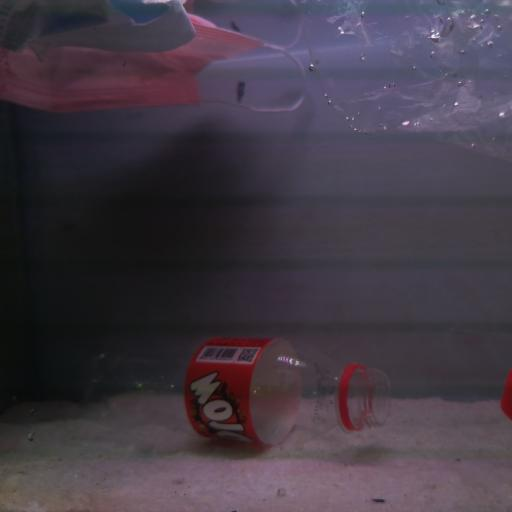bottle_cap: (500, 365, 512, 422)
mask: (0, 20, 308, 114), (5, 0, 197, 56)
plastic_bag: (301, 0, 512, 159)
plastic_bottle: (78, 336, 396, 445)
